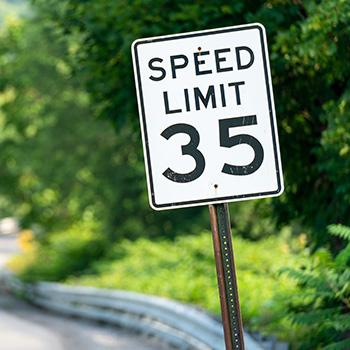traffic sign: (103, 16, 309, 346)
